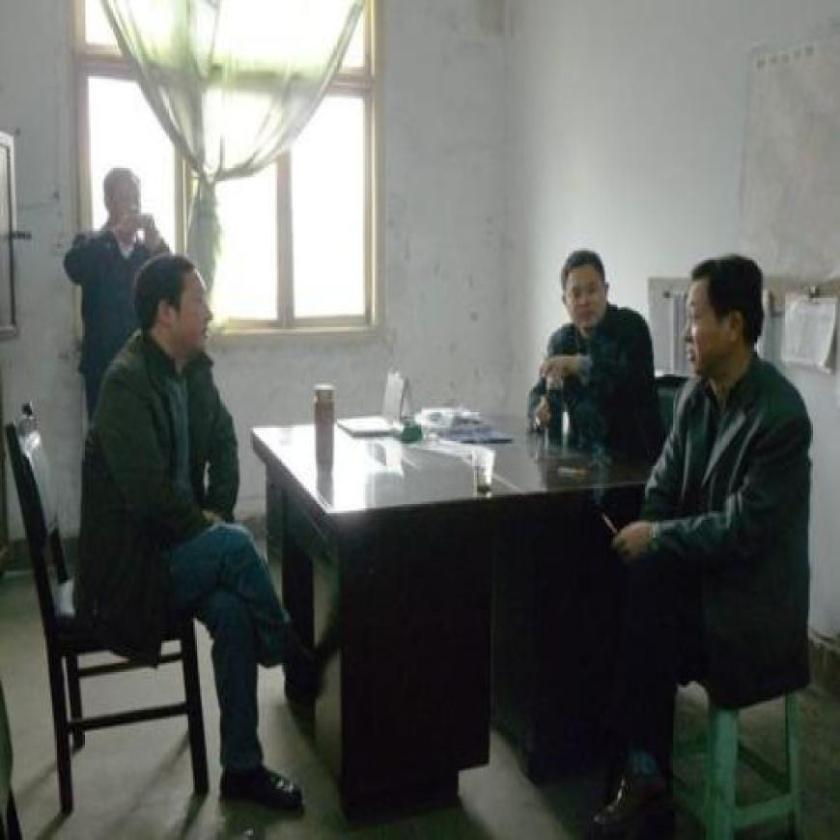Sin_casco: (680, 256, 770, 388), (132, 254, 213, 364), (559, 252, 615, 329), (100, 161, 142, 243)
